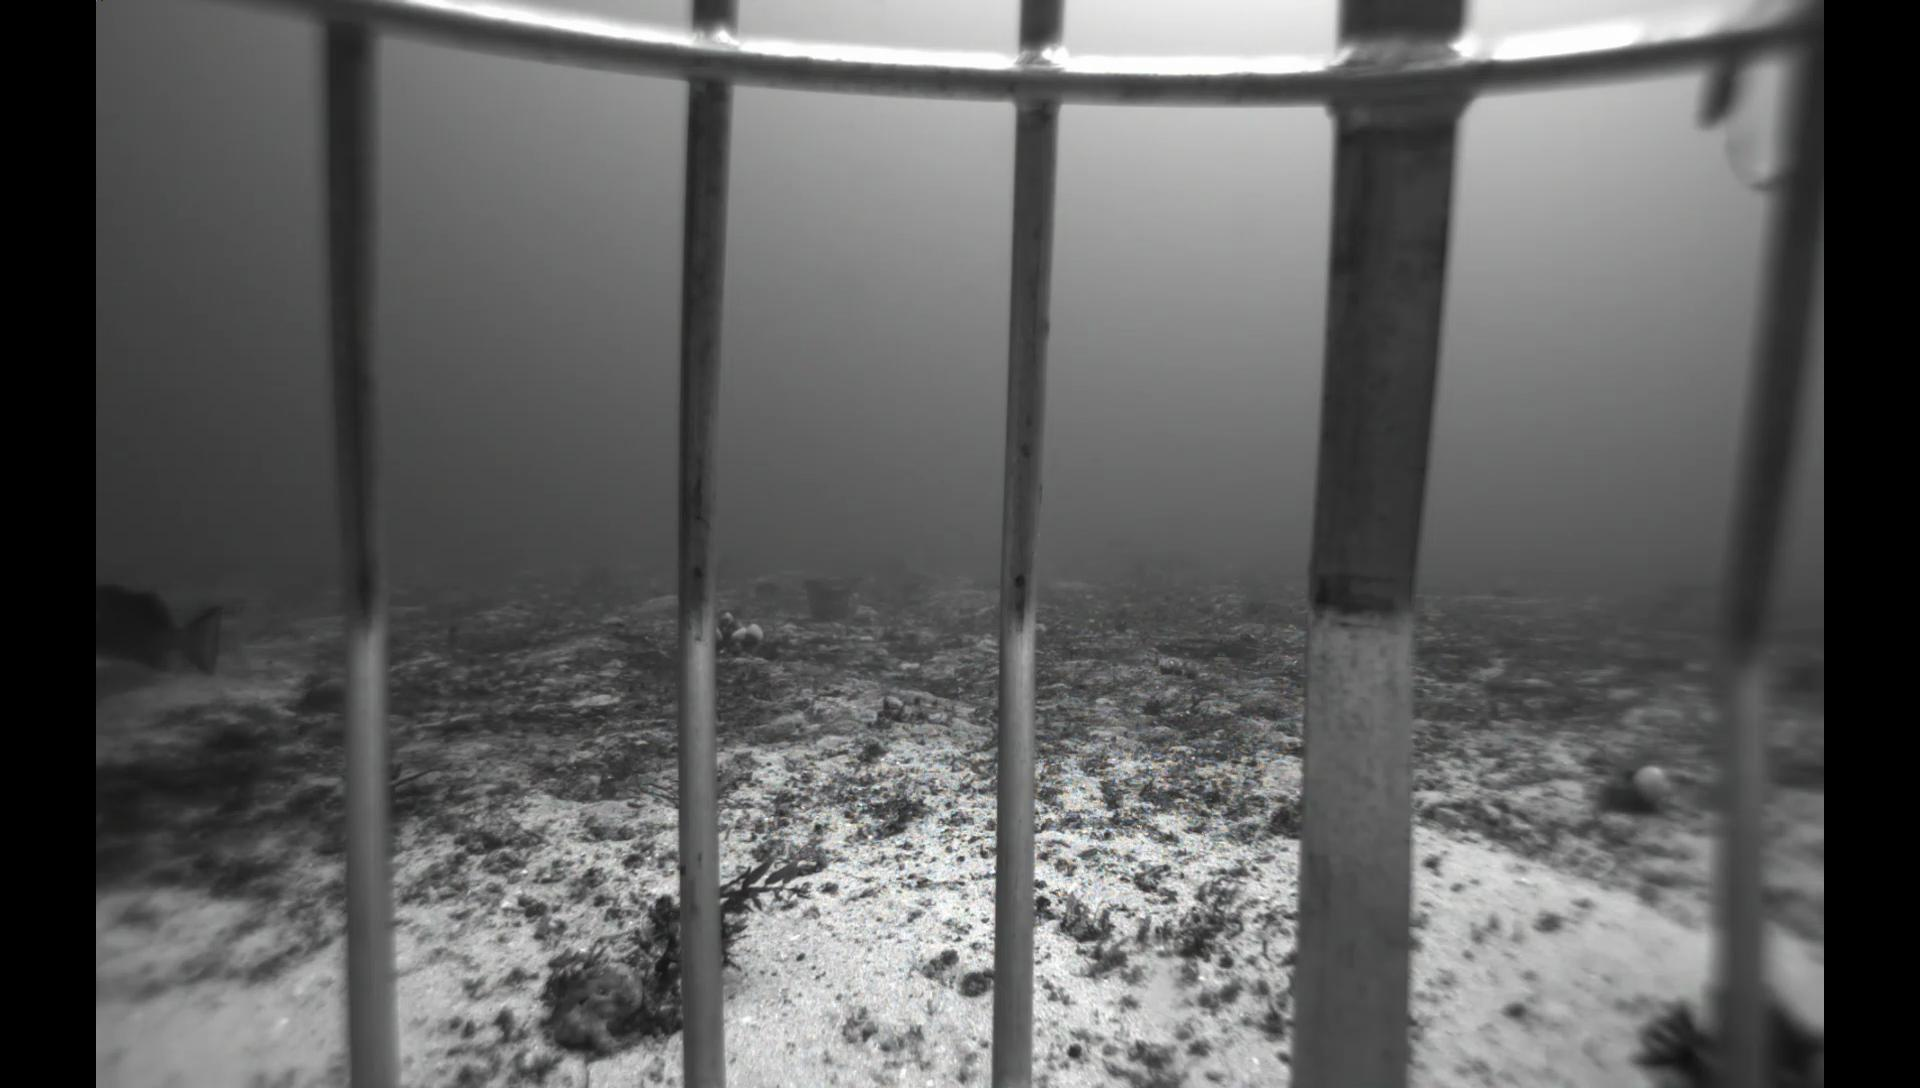CHAETODONOCELLATUS-170260307: (640, 572, 667, 593), (861, 571, 882, 589)
EPINEPHELUSMORIO-170021211: (95, 579, 228, 680)
PRISTIGENYSALTA-170050401: (294, 674, 349, 721)
